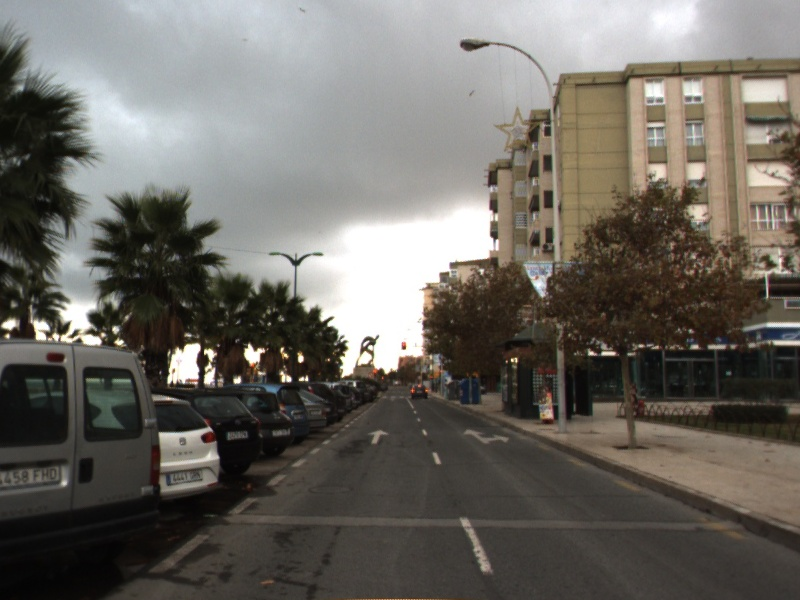STRAIGHT: (366, 428, 391, 446)
STRAIGHT_RIGHT: (461, 427, 511, 446)
